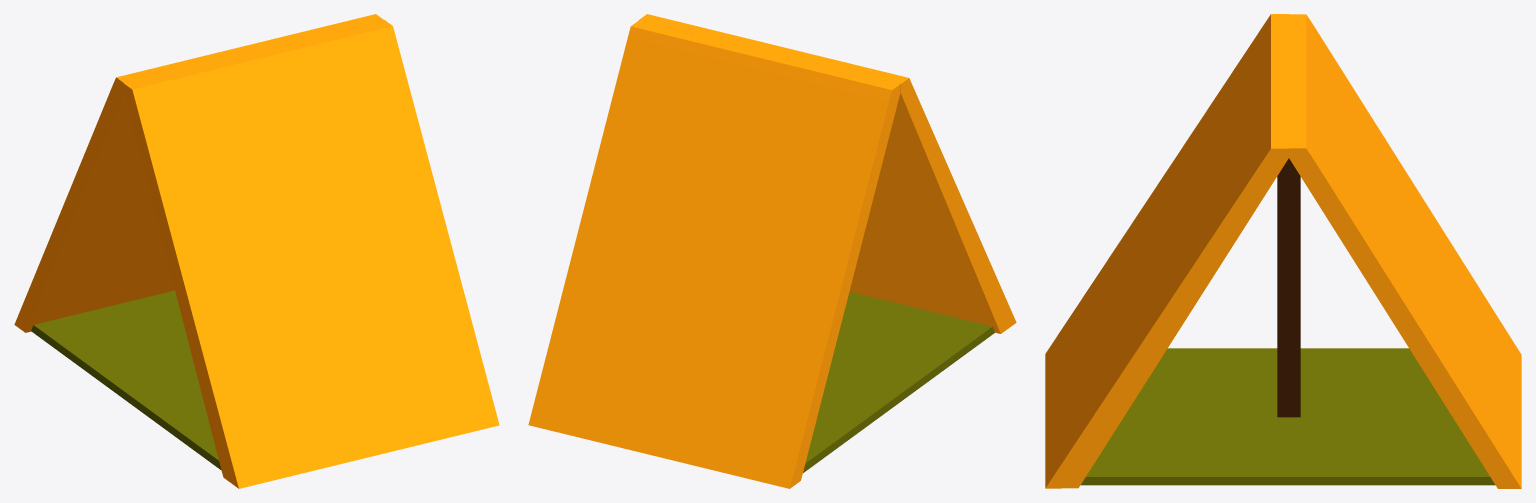
The model's file is tent.fbx.
3 views of the same model, side by side, from view 1: azimuth 30°, elevation 25°; view 2: azimuth 150°, elevation 25°; view 3: azimuth 270°, elevation 25° (orthographic). The views are drawn at different scales.
Visible parts, largest first — view 1: Cube.001; view 2: Cube.001; view 3: Cube.001.
Boxes of the visible parts, x1,y1,x2,y2 form: Cube.001: (14,14,499,488); Cube.001: (528,14,1016,488); Cube.001: (1045,14,1521,488).
Bounding box in the file's own units: 572 × 675 × 855.
